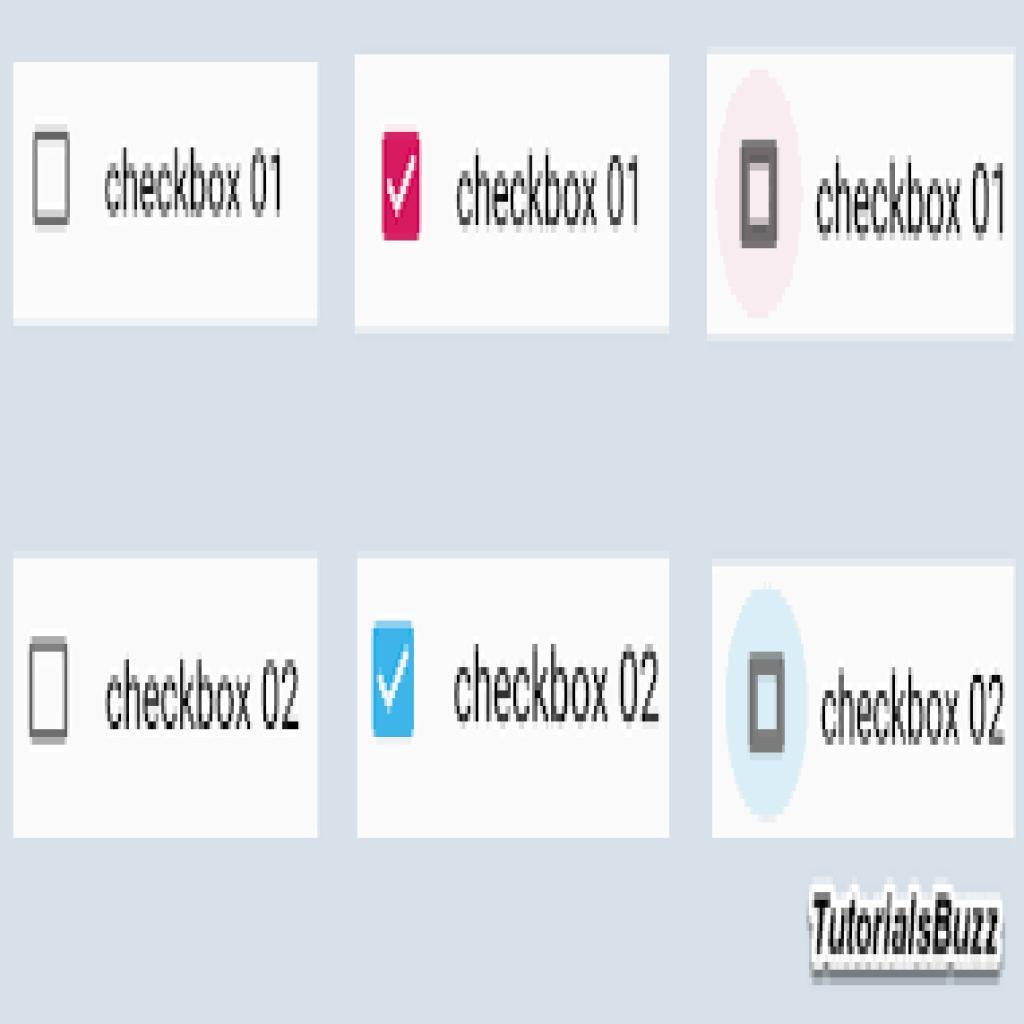checkbox: (375, 623, 415, 736), (382, 133, 423, 237), (32, 641, 67, 737), (34, 133, 69, 224), (753, 664, 783, 745), (746, 165, 775, 234)
label: (820, 667, 1013, 760), (804, 160, 1009, 247), (452, 644, 665, 727), (102, 650, 308, 732), (440, 157, 648, 232), (99, 150, 294, 221)
